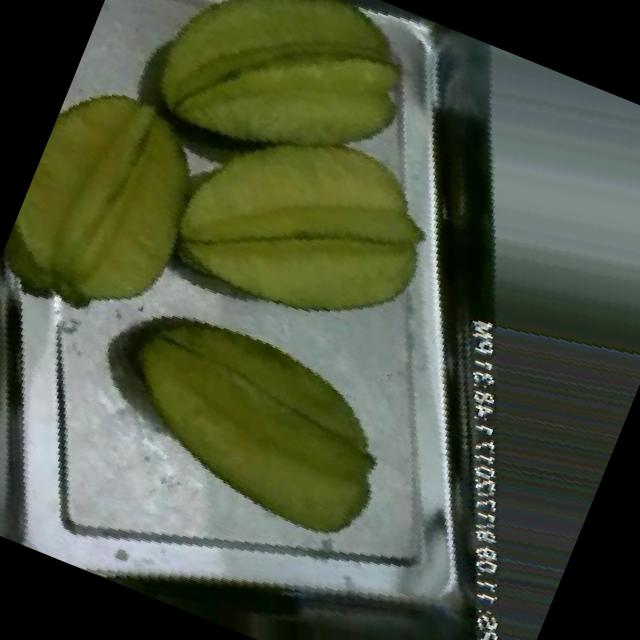fruit: (50, 224, 452, 606), (96, 29, 492, 411), (0, 50, 268, 382), (95, 0, 462, 242), (395, 238, 640, 573)
